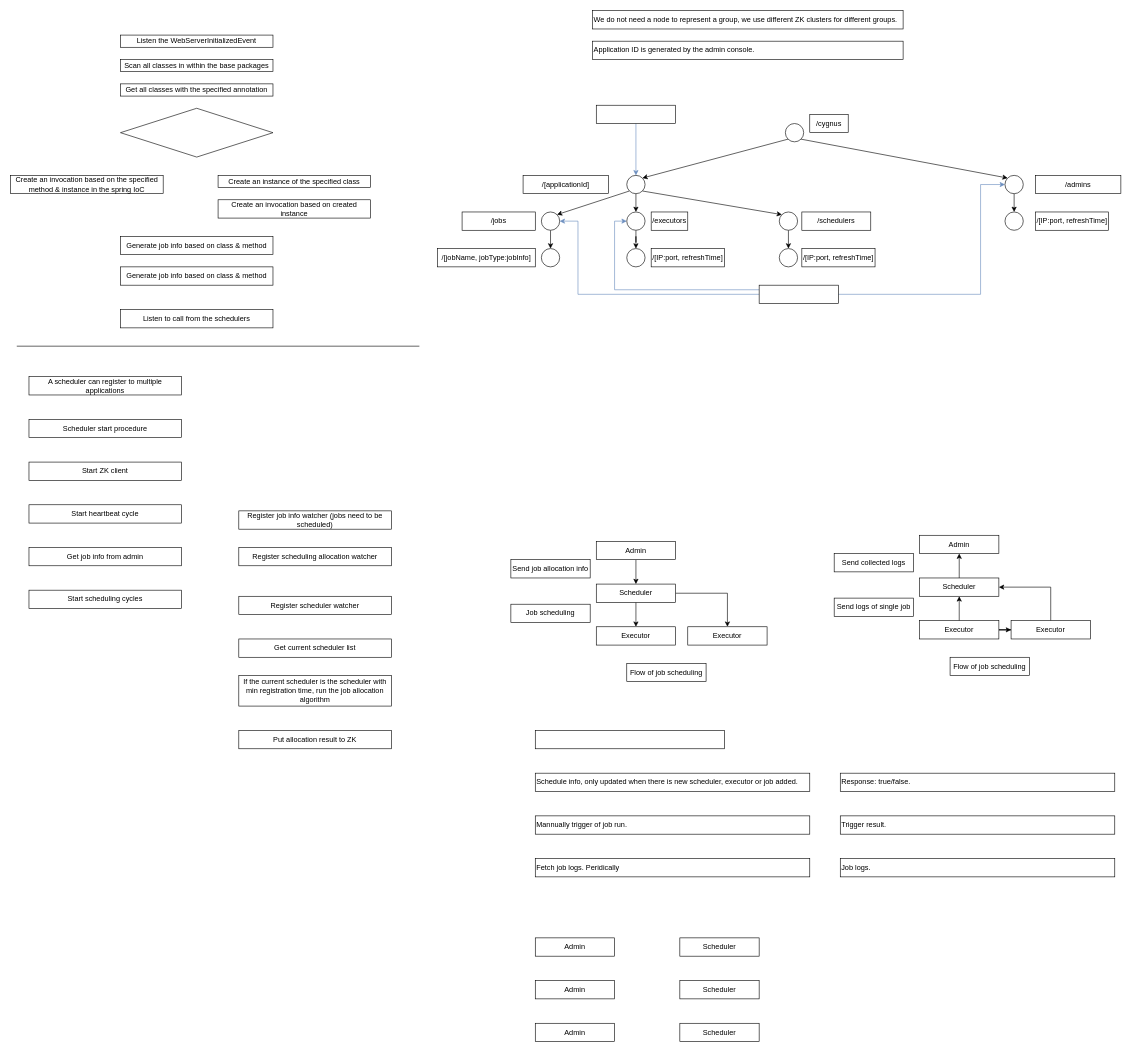
This 1132x1052 diagram has some shape labels left out. Each missing label, with the centre of its shape:
Instance loaded in the spring IoC?: (x=196, y=132)
Interaction between Admin & Scheduler (message types): (x=629, y=739)
Watched by admin: (x=636, y=114)
Watched by schedulers: (x=798, y=294)
